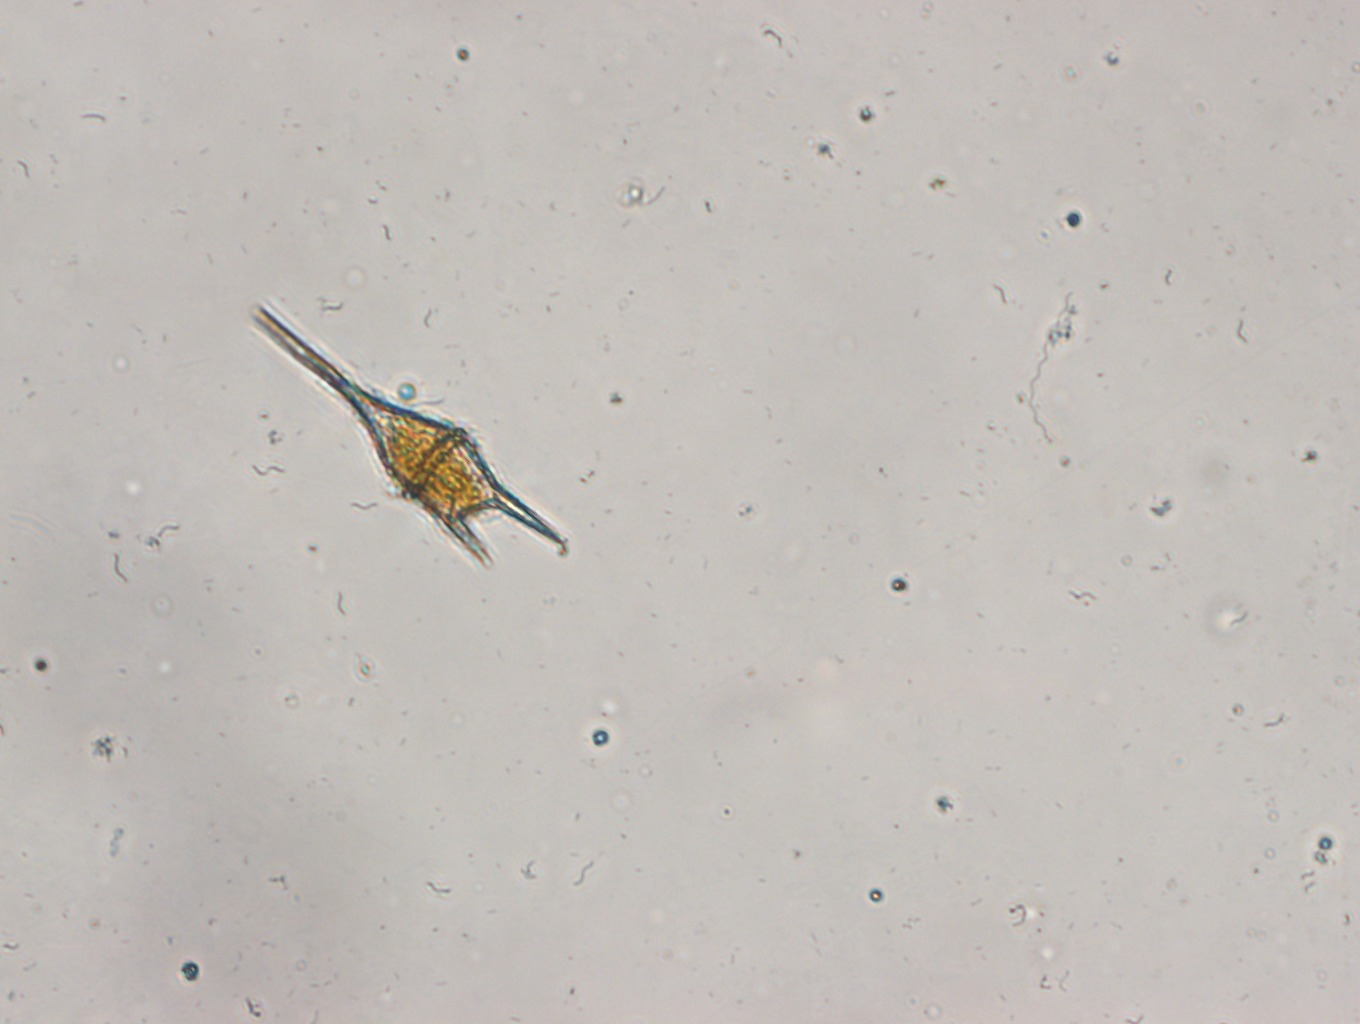ceratium furca: (242, 301, 567, 568)
